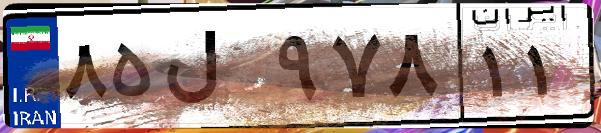1: (475, 38, 525, 113), (525, 38, 570, 115)
5: (110, 28, 158, 98)
7: (330, 28, 385, 110)
8: (385, 28, 445, 110), (57, 26, 110, 100)
9: (270, 28, 330, 110)
ل: (158, 20, 270, 120)
